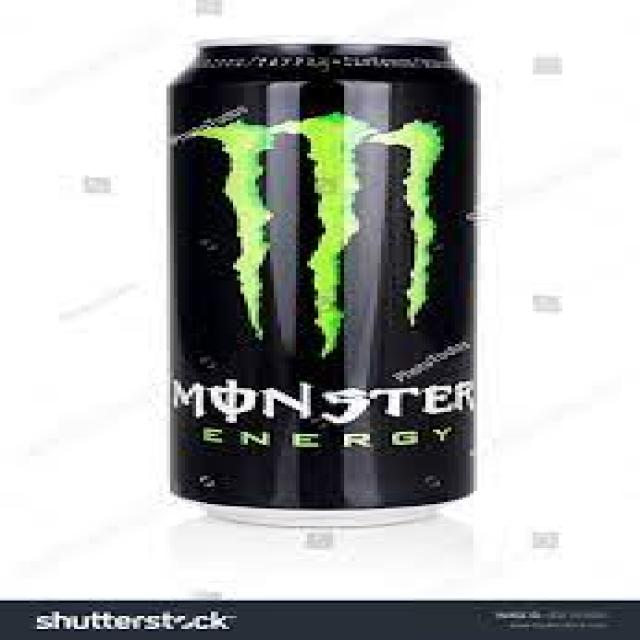Cans: (157, 12, 484, 545)
